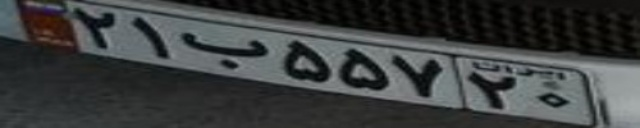0: (534, 92, 572, 109)
1: (126, 16, 170, 59)
2: (467, 70, 521, 109), (73, 6, 118, 52)
5: (332, 47, 388, 90), (279, 37, 329, 83)
7: (390, 53, 445, 99)
be: (181, 29, 268, 70)
